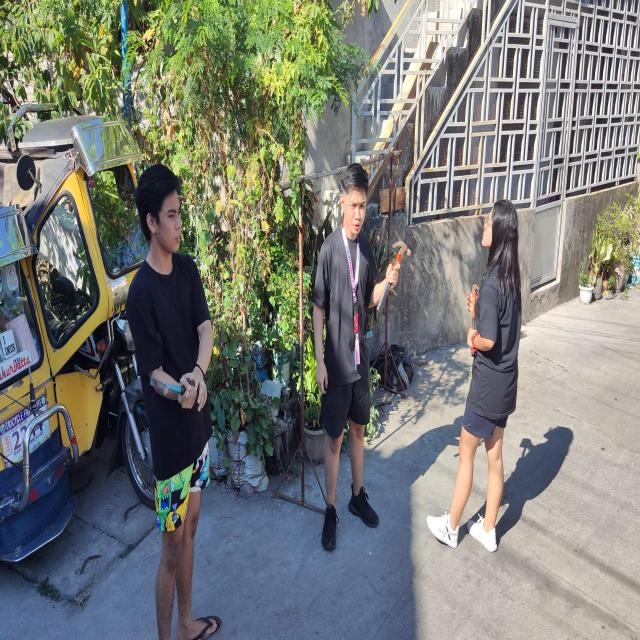hammer: (376, 241, 412, 314), (150, 376, 186, 397), (472, 284, 478, 356)
